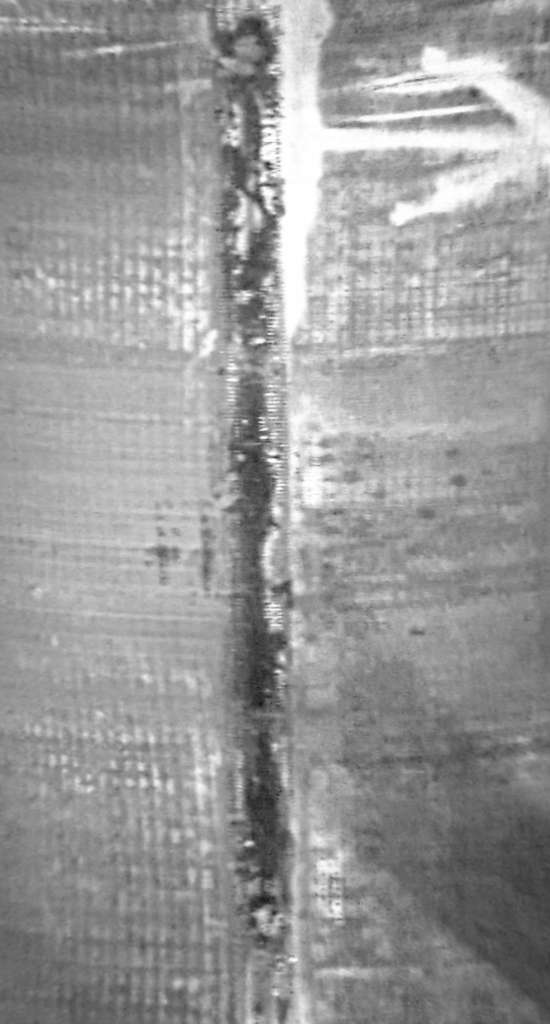splice: (203, 2, 330, 1024)
